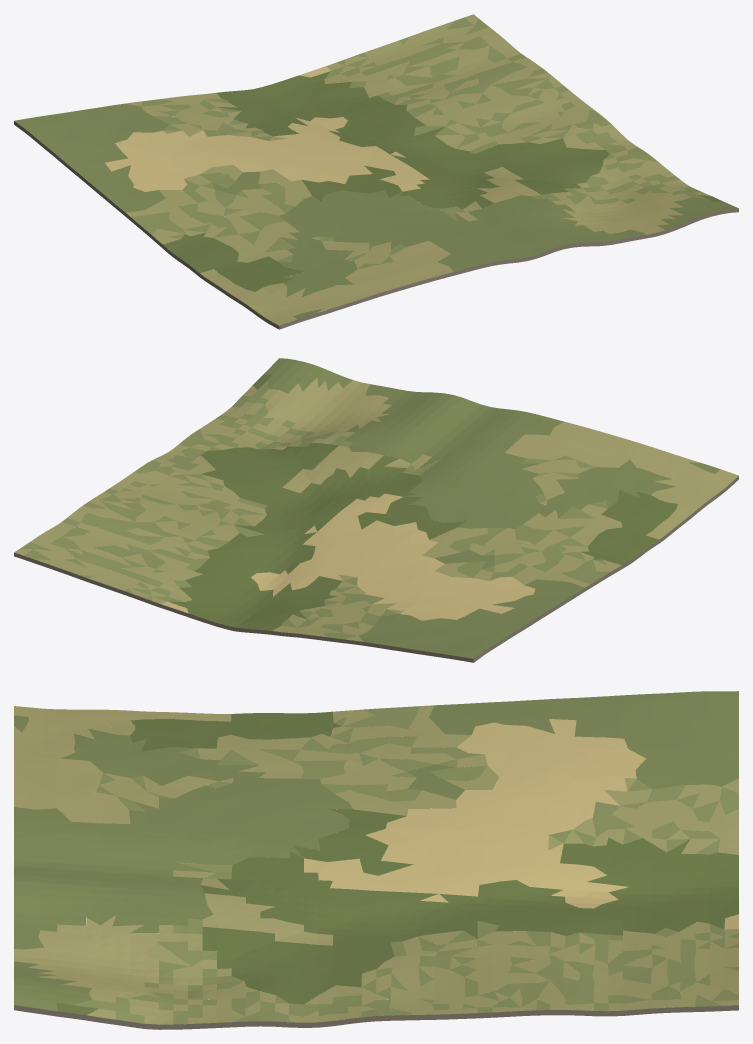
The model's file is parca_+2_-4-uzak.glb.
The picture shows the model from 3 angles, top to bottom: view 1: azimuth 30°, elevation 25°; view 2: azimuth 150°, elevation 25°; view 3: azimuth 270°, elevation 25°; orthographic projection. The views are drawn at different scales.
Parts seen in each view (by area): view 1: parca_+2_-4_arazi_uzak; view 2: parca_+2_-4_arazi_uzak; view 3: parca_+2_-4_arazi_uzak.
Boxes of the visible parts, x1=… form: parca_+2_-4_arazi_uzak: x1=14, y1=14, x2=738, y2=329; parca_+2_-4_arazi_uzak: x1=14, y1=358, x2=738, y2=662; parca_+2_-4_arazi_uzak: x1=14, y1=691, x2=738, y2=1029.
Size of the model in its own units: 1000 by 65.92 by 1000.
